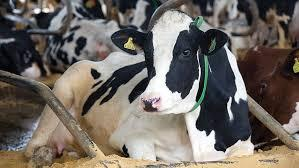cow: (23, 9, 255, 168), (235, 44, 299, 147), (47, 1, 140, 68)
